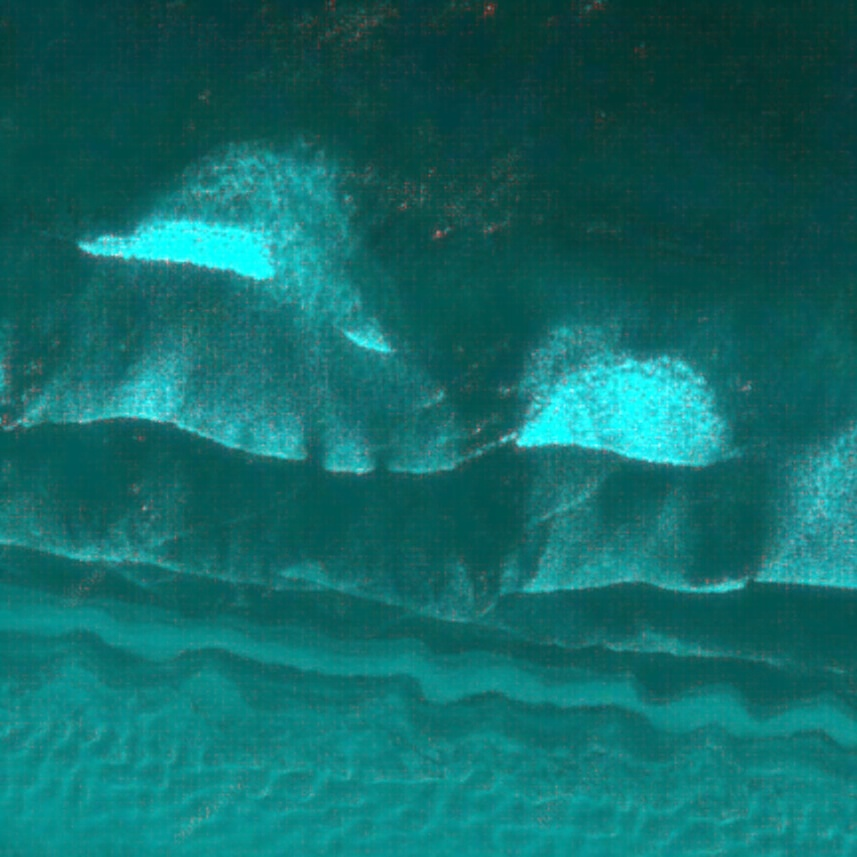rip_current: (292, 179, 581, 576)
